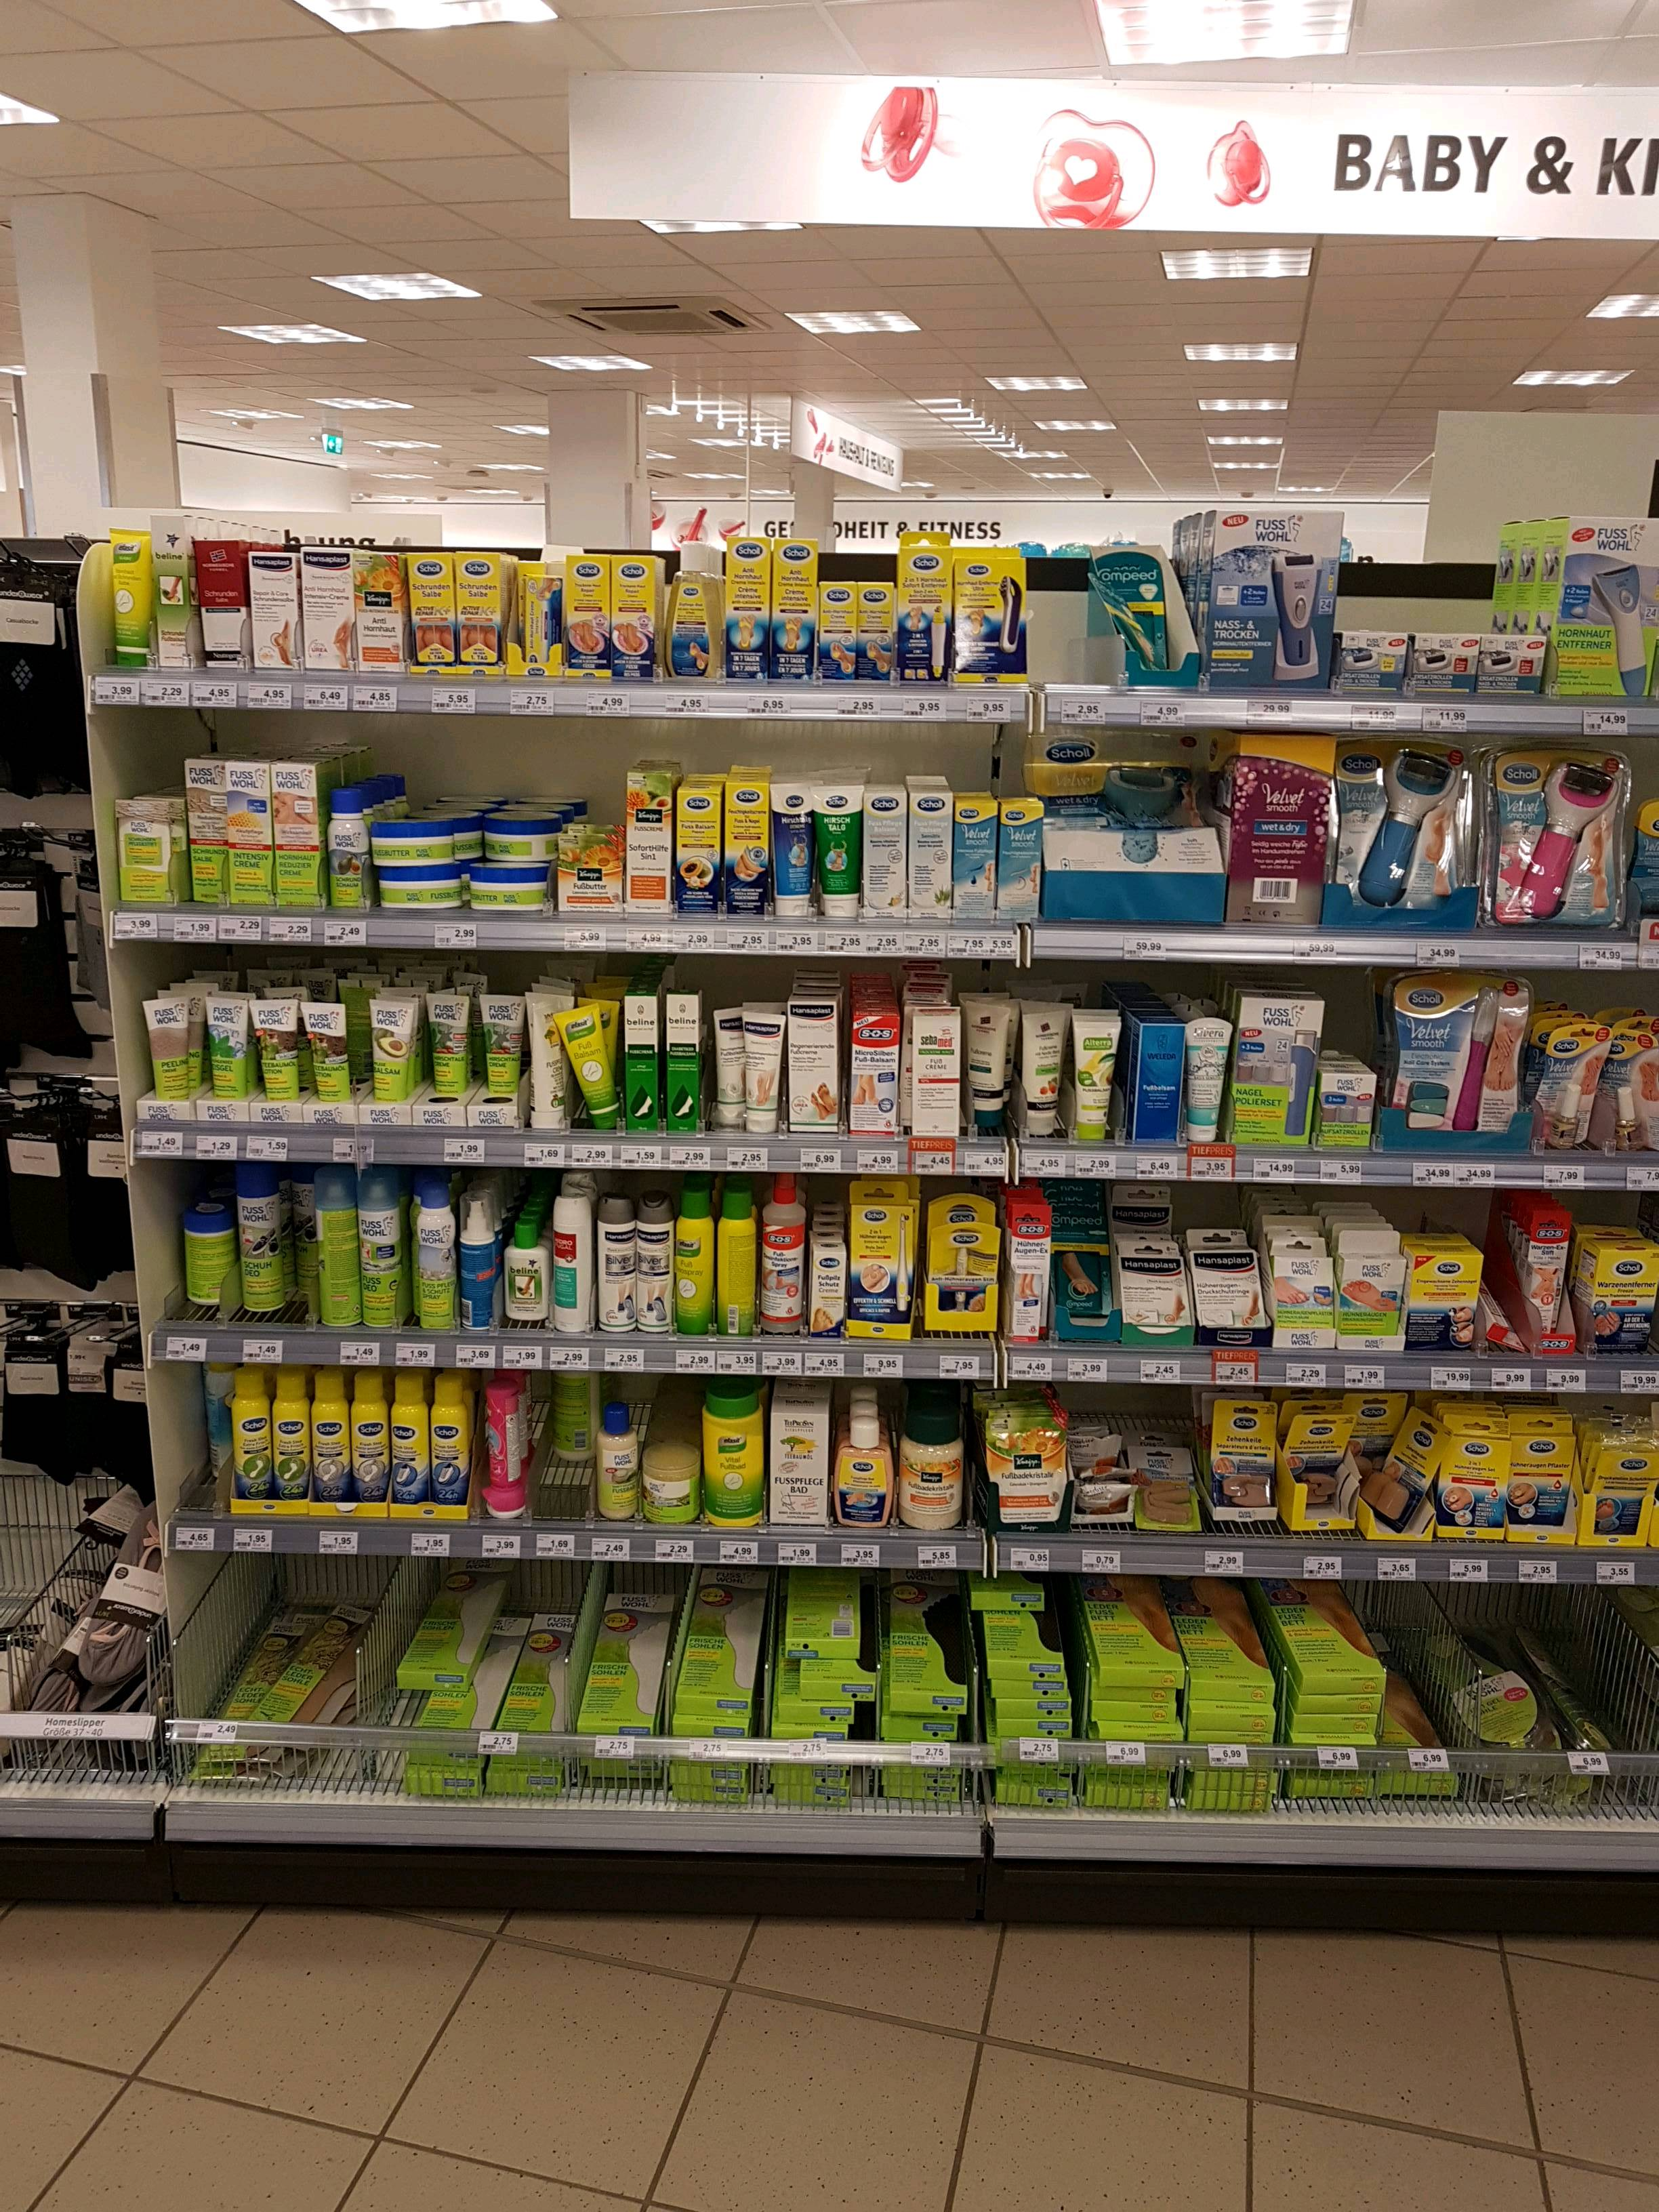product: (1464, 1581, 1638, 1810), (1042, 728, 1225, 921), (213, 1585, 369, 1797), (1338, 737, 1483, 939), (1485, 737, 1633, 934), (1382, 967, 1530, 1148), (1199, 503, 1338, 693), (1077, 1573, 1176, 1808), (976, 1569, 1072, 1808), (1183, 1573, 1276, 1815), (880, 1562, 965, 1818), (1283, 1578, 1375, 1808), (774, 1559, 857, 1810), (2, 547, 84, 787), (1554, 512, 1659, 698), (1230, 728, 1330, 921), (673, 1562, 755, 1796), (2, 817, 71, 1073), (71, 1092, 150, 1270), (103, 1324, 174, 1517), (1093, 543, 1187, 690), (0, 1096, 71, 1282), (1378, 1646, 1459, 1808), (598, 1585, 660, 1791), (1234, 989, 1314, 1143), (981, 1406, 1068, 1533), (951, 543, 1026, 685), (3, 1325, 64, 1491), (1208, 1386, 1279, 1527), (849, 1181, 911, 1341), (1358, 1393, 1432, 1527), (528, 1608, 582, 1792), (708, 1381, 770, 1534), (101, 1533, 166, 1681), (1511, 1407, 1575, 1554), (1190, 1223, 1263, 1348), (899, 1399, 967, 1531), (1281, 1400, 1352, 1526), (1544, 1010, 1601, 1153), (925, 1219, 997, 1334), (1586, 1237, 1656, 1353), (899, 531, 951, 685), (418, 1547, 479, 1677), (1114, 1237, 1188, 1343), (1582, 1430, 1652, 1543), (1053, 1212, 1112, 1345), (1521, 1207, 1575, 1348), (103, 523, 153, 669), (422, 1691, 488, 1803), (1337, 1228, 1398, 1348), (1443, 1406, 1500, 1533), (270, 756, 319, 906), (666, 538, 718, 678), (315, 1177, 361, 1338), (108, 801, 183, 897), (774, 1400, 831, 1524), (1270, 1233, 1331, 1348), (845, 1007, 901, 1132), (671, 787, 721, 921), (1405, 1254, 1473, 1353), (572, 1008, 624, 1137), (833, 1416, 892, 1529), (234, 1169, 281, 1310), (1607, 1029, 1659, 1155), (772, 533, 817, 678), (1006, 1202, 1051, 1345), (624, 766, 669, 909), (788, 998, 836, 1130), (251, 549, 301, 676), (362, 1170, 404, 1324), (369, 993, 416, 1129), (554, 827, 624, 918), (1129, 1012, 1178, 1141), (350, 1371, 392, 1521), (1018, 1010, 1065, 1143), (814, 791, 861, 923), (17, 1665, 75, 1773), (716, 1188, 758, 1336), (355, 549, 406, 671), (915, 1007, 960, 1143), (727, 780, 772, 916), (483, 1386, 530, 1517), (556, 1169, 594, 1329), (727, 533, 767, 686), (185, 751, 225, 902), (432, 989, 476, 1129), (305, 1000, 352, 1129), (202, 543, 251, 667), (763, 1181, 802, 1338), (1072, 1015, 1119, 1143), (568, 549, 613, 679), (488, 993, 530, 1134), (457, 1191, 497, 1338), (178, 1193, 228, 1308), (619, 549, 662, 681), (464, 552, 512, 669), (310, 540, 352, 676), (228, 758, 267, 906), (307, 1371, 345, 1517), (599, 1193, 640, 1332), (774, 782, 814, 921), (641, 1435, 701, 1529), (864, 789, 906, 921), (415, 549, 460, 671), (1138, 1437, 1195, 1533), (230, 1374, 268, 1515), (260, 1001, 301, 1130), (999, 796, 1042, 920), (1077, 1421, 1131, 1521), (75, 840, 103, 1031), (157, 512, 190, 672), (667, 991, 704, 1134), (1321, 1061, 1378, 1151), (951, 796, 993, 920), (1188, 1012, 1227, 1146), (911, 787, 948, 927), (626, 991, 662, 1129), (965, 998, 1006, 1123), (206, 995, 247, 1113), (641, 1184, 673, 1341), (436, 1376, 469, 1524), (326, 791, 366, 913), (502, 1223, 547, 1327), (530, 995, 563, 1137), (190, 1360, 227, 1489), (274, 1376, 307, 1515), (416, 1193, 450, 1332), (549, 1366, 596, 1463), (678, 1188, 709, 1332), (68, 1334, 105, 1458), (1342, 629, 1410, 695), (746, 1008, 781, 1136), (599, 1406, 638, 1521), (396, 1374, 427, 1510), (859, 580, 899, 685), (141, 1000, 190, 1085), (525, 568, 559, 685), (1483, 636, 1549, 697), (809, 1233, 845, 1343), (819, 580, 857, 685), (1417, 631, 1478, 690), (476, 871, 547, 920), (380, 869, 474, 906), (371, 822, 453, 864), (716, 1012, 742, 1137), (1480, 1284, 1514, 1359), (488, 813, 547, 857)
